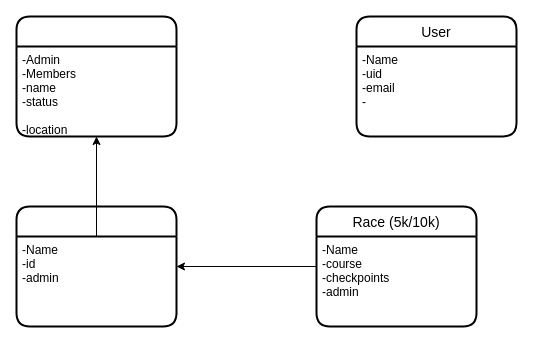
Image size: 533x343. Some labels were removed from this diagram. The shapes that lost their labels are listed below. From the top down, each one's box as (x1, y1, x2, y2) in pixels, then its label:
(15, 15, 177, 137): Org
(15, 205, 177, 327): Event
